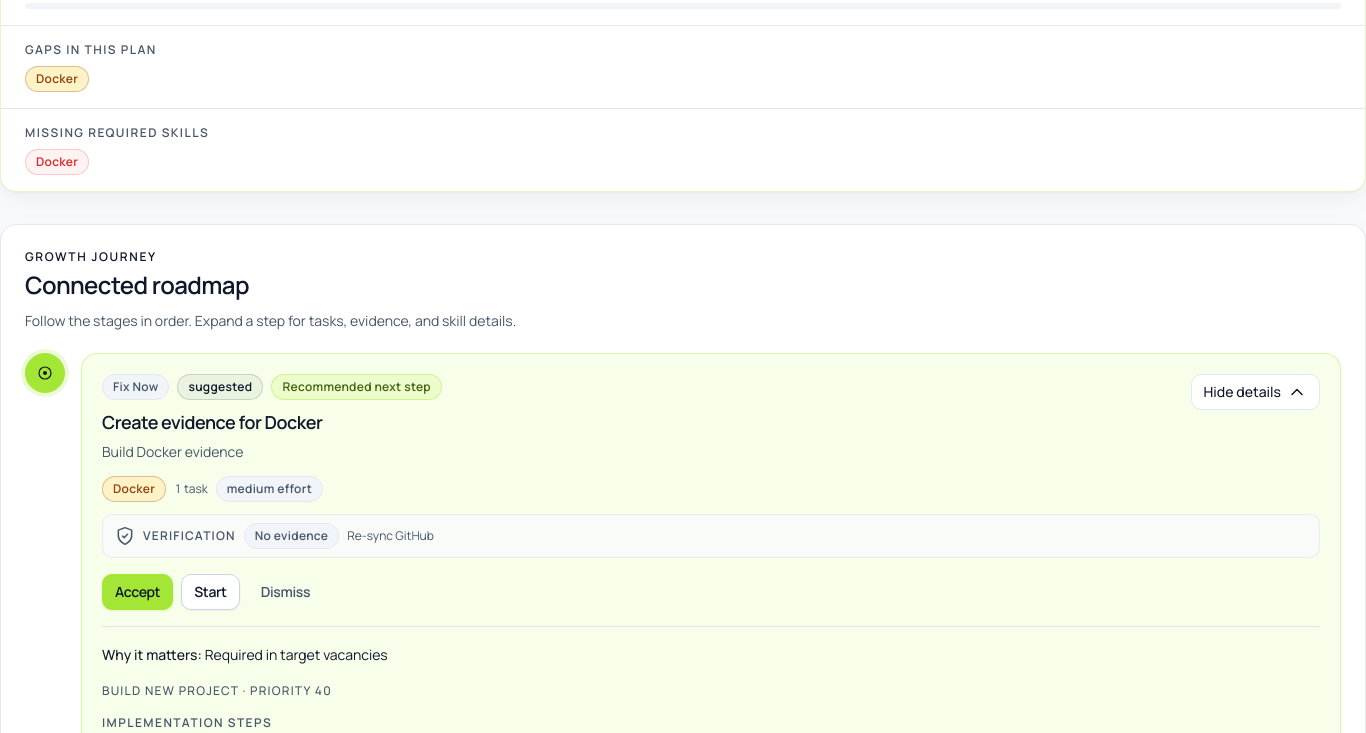
Test: CareerCompanionSection › renders a connected timeline and refuses complete-by-click controls
(page scrolled)
Expected: the heading "Create evidence for Docker" is shown, [101, 409, 322, 434]
Expected: the heading "Connected roadmap" is shown, [25, 268, 249, 301]
Click the button "Hide details" at (1255, 392), box [1191, 374, 1320, 410]
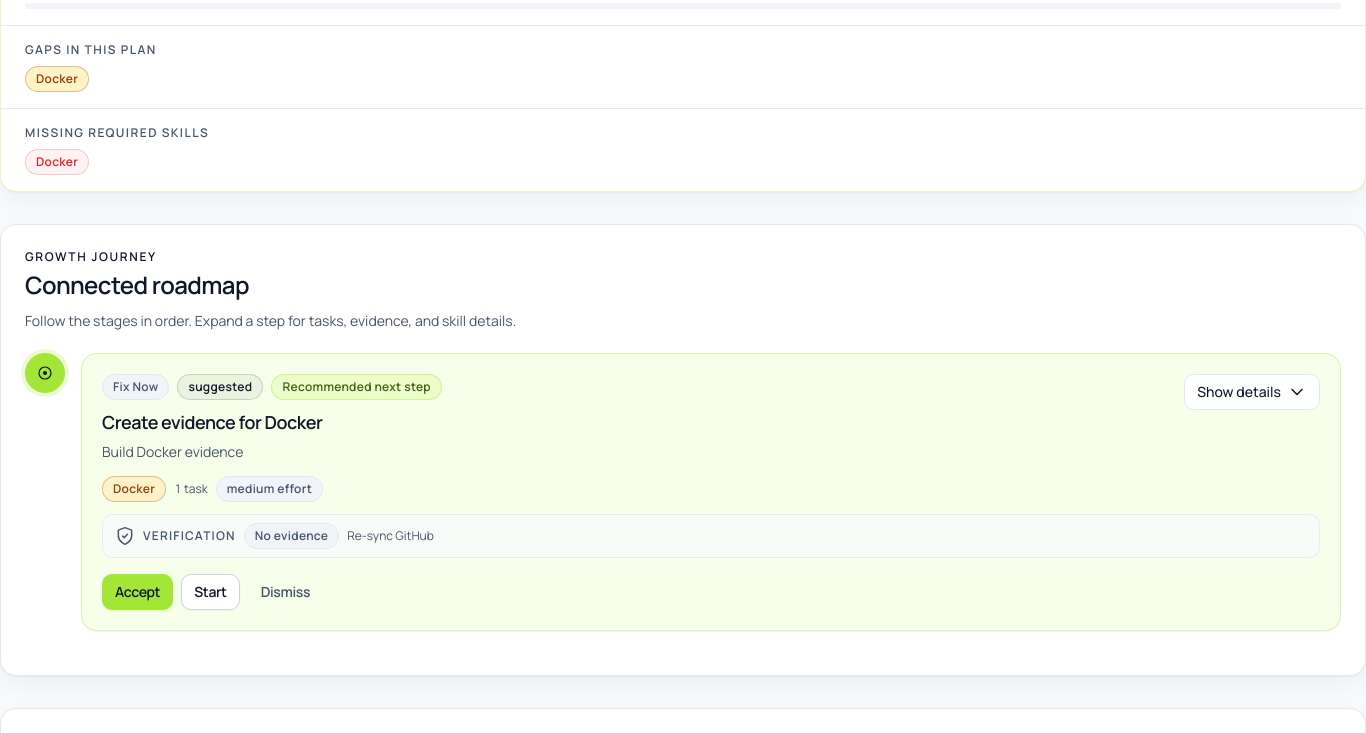
Expected: the button "Show details" is collapsed, [1184, 374, 1320, 410]
Expected: the text "Implementation steps" is gone
